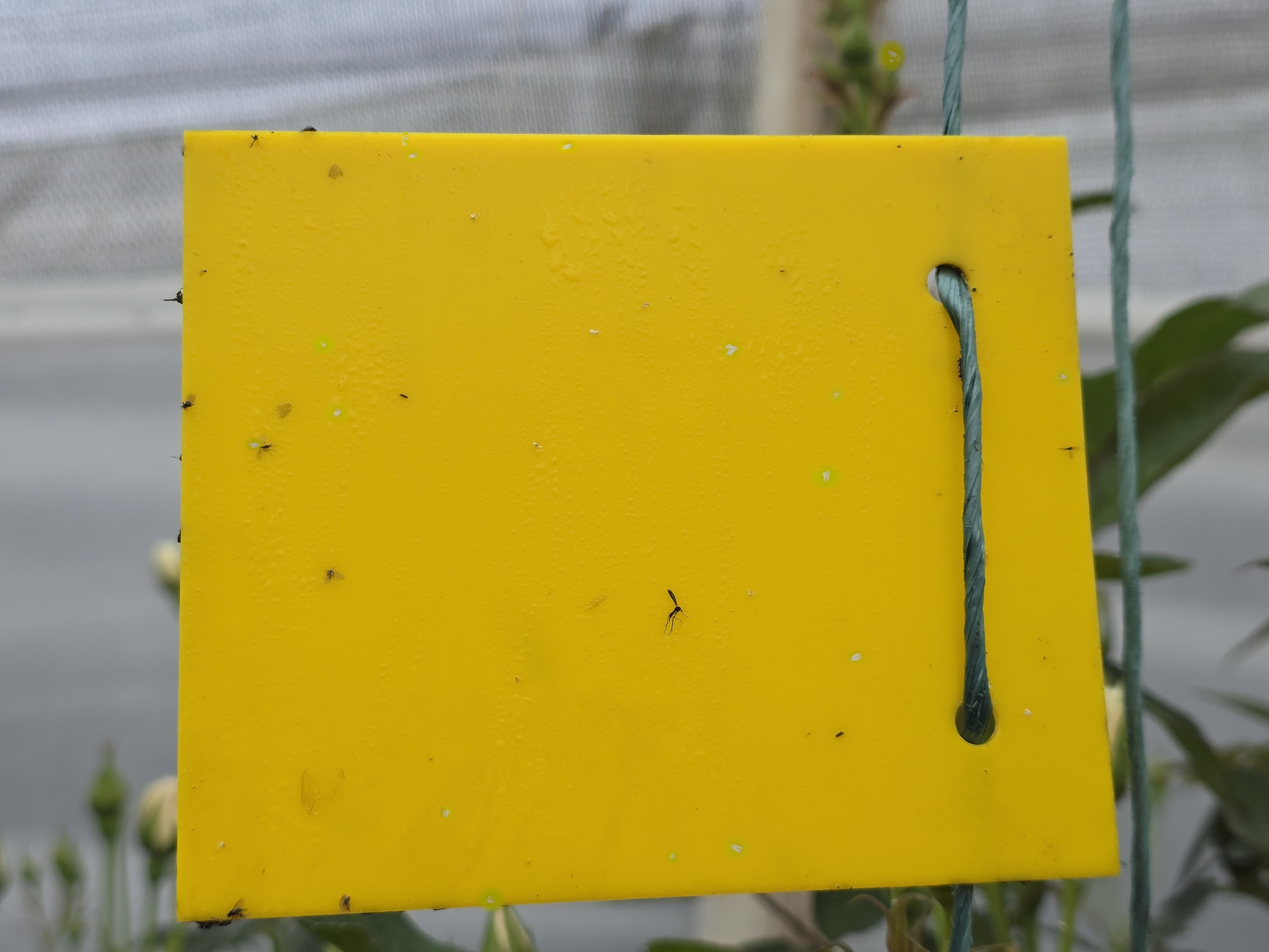WF: (882, 45, 901, 66), (481, 891, 501, 908), (816, 469, 837, 485), (727, 840, 746, 856), (315, 337, 331, 352), (328, 406, 346, 419), (724, 342, 739, 357), (1056, 370, 1069, 385), (849, 651, 862, 662), (560, 142, 574, 152), (247, 439, 260, 449), (587, 329, 601, 338), (831, 389, 842, 400), (407, 150, 419, 160), (441, 807, 450, 817), (470, 212, 478, 223), (669, 852, 677, 861), (403, 134, 408, 146)
